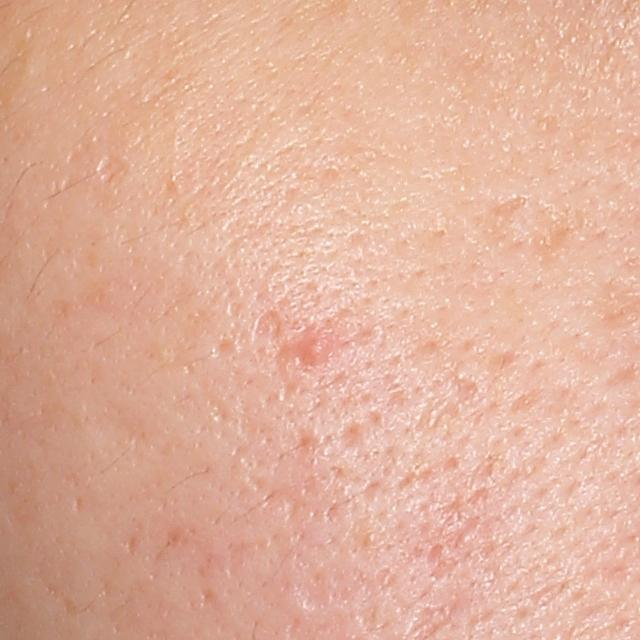atrophic_scar: (84, 398, 200, 482), (422, 540, 460, 589), (480, 193, 525, 229), (250, 309, 284, 348), (335, 419, 366, 460), (94, 150, 124, 185)
papule: (293, 323, 335, 368)
